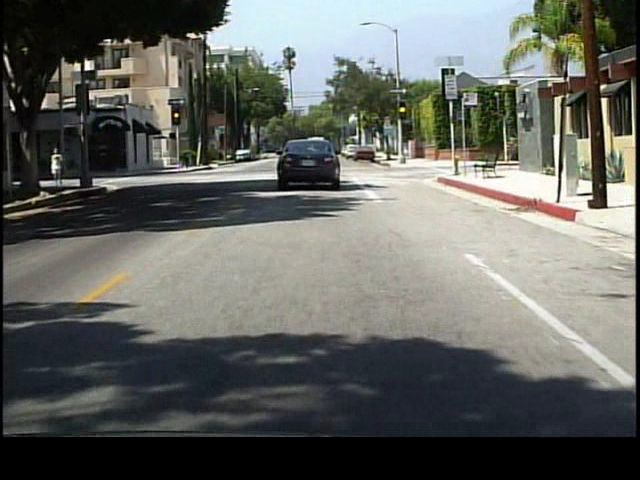person: (52, 145, 71, 190)
